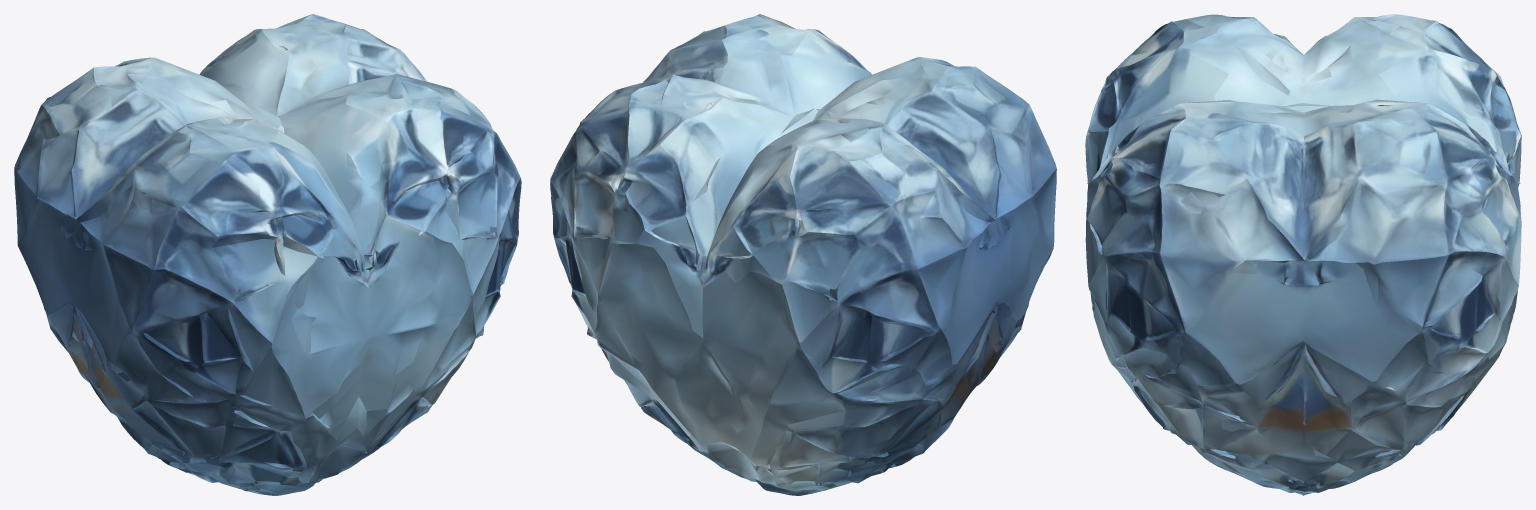
3 renders of one model, left to right at view 1: azimuth 30°, elevation 25°; view 2: azimuth 150°, elevation 25°; view 3: azimuth 270°, elevation 25°, orthographic. The views are drawn at different scales.
Parts seen in each view (by area): view 1: world; view 2: world; view 3: world.
Boxes of the visible parts, bbox=[...] form: world: bbox=[14, 14, 521, 495]; world: bbox=[550, 14, 1056, 495]; world: bbox=[1085, 14, 1521, 495].
Size of the model in its own units: 0.025 by 0.025 by 0.0233.
1 material, 1 textured.
